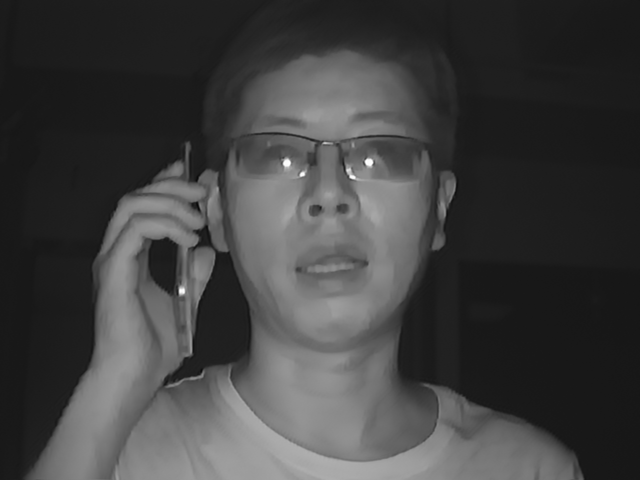hand: (87, 161, 219, 365)
